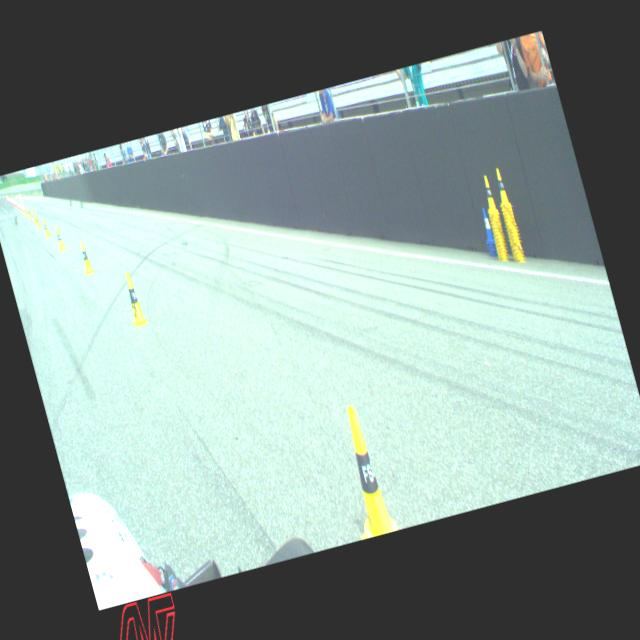blue_cone: (478, 205, 495, 242)
yellow_cone: (327, 400, 400, 538), (120, 270, 148, 326), (491, 166, 512, 208), (478, 174, 499, 216), (76, 238, 94, 274), (54, 226, 66, 250), (41, 218, 50, 238), (33, 212, 41, 230), (30, 208, 36, 222), (25, 206, 31, 218)
